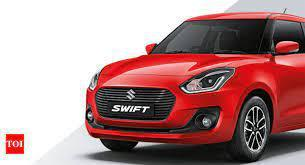Hatchback: (83, 7, 304, 162)
